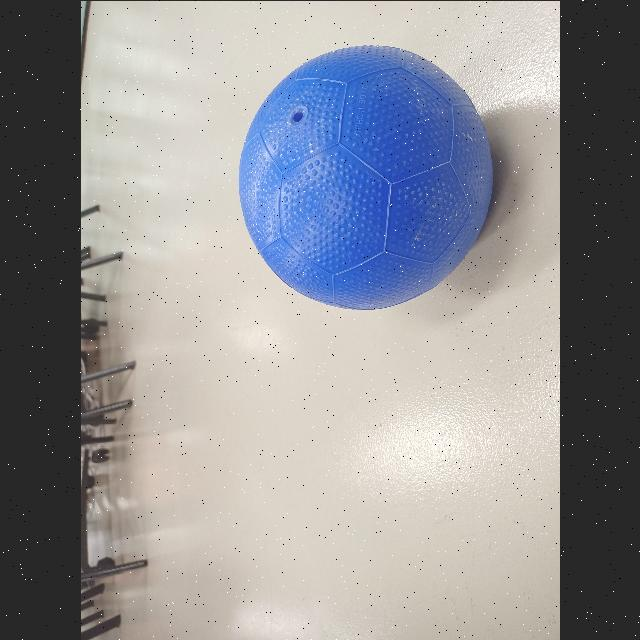B: (238, 46, 494, 308)
